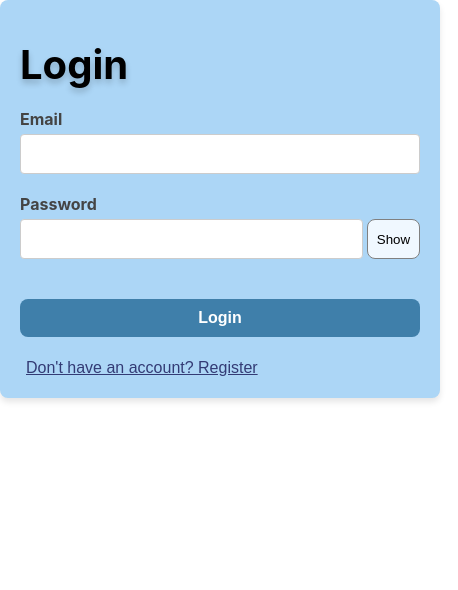
it: Login Component › toggles to register form
The image size is (458, 590).
# Toggle to the register form
Click the button "Don't have an account? Register" at (142, 368), box [20, 358, 264, 378]
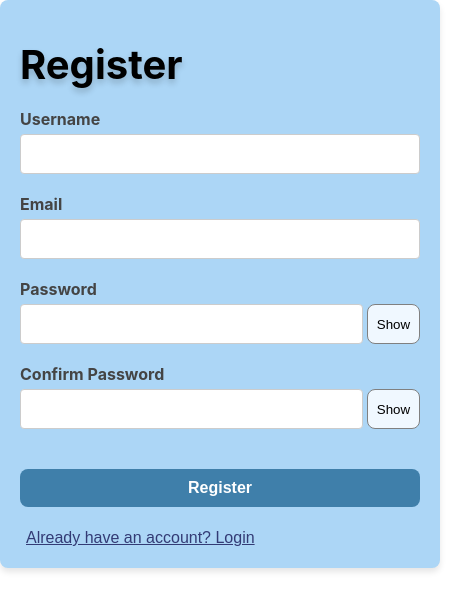
Expected: the field labelled "Email" is shown, [20, 219, 420, 259]
Expected: the heading "Register" is shown, [20, 40, 182, 89]
Expected: the password field labelled "Confirm Password" is shown, [20, 389, 363, 429]
